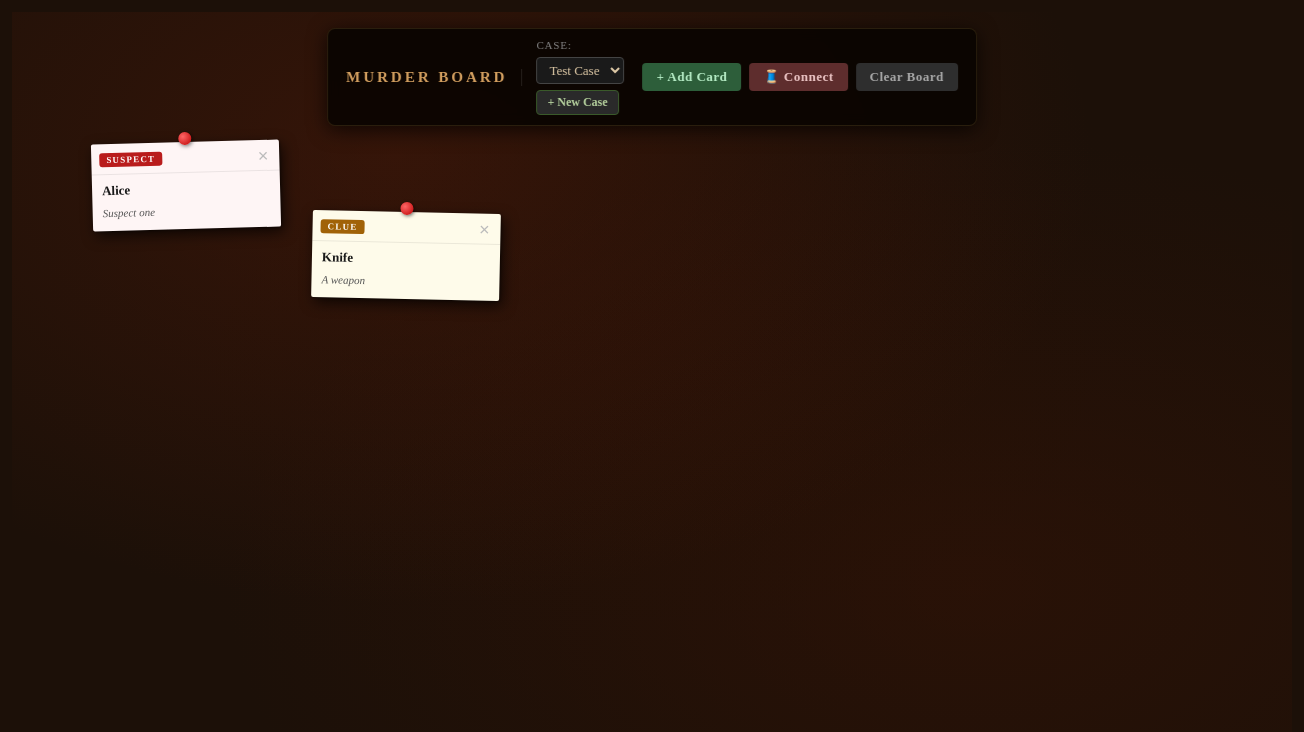
Scenario: Board › selecting first card in connect mode updates hint
Click the button "🧵 Connect". click: click(799, 77)
box: [750,63,848,91]
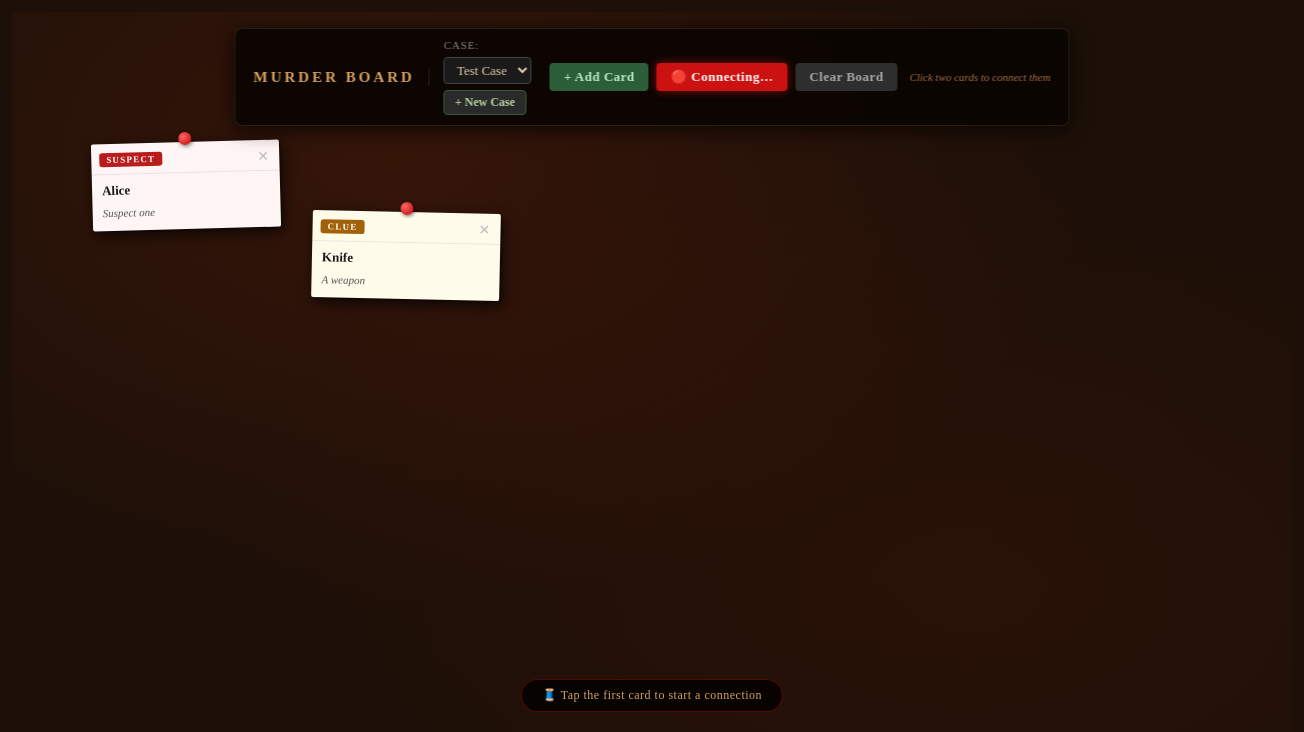
Click the element showing "Suspect × Alice Suspect one". click: click(186, 186)
box: [91,140,281,232]
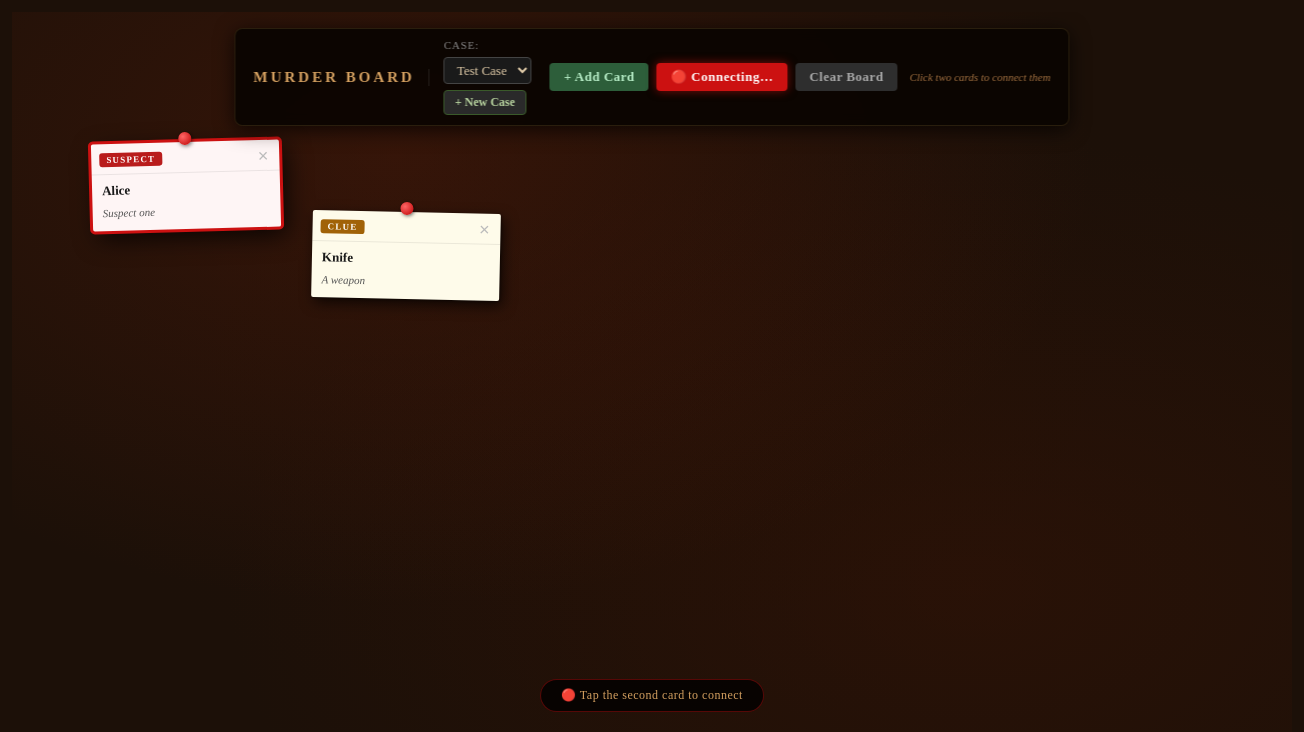
Expected: the text "🔴 Tap the second card to connect" is shown, [540,679,764,712]
